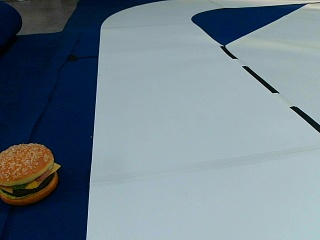burger: (0, 140, 61, 204)
